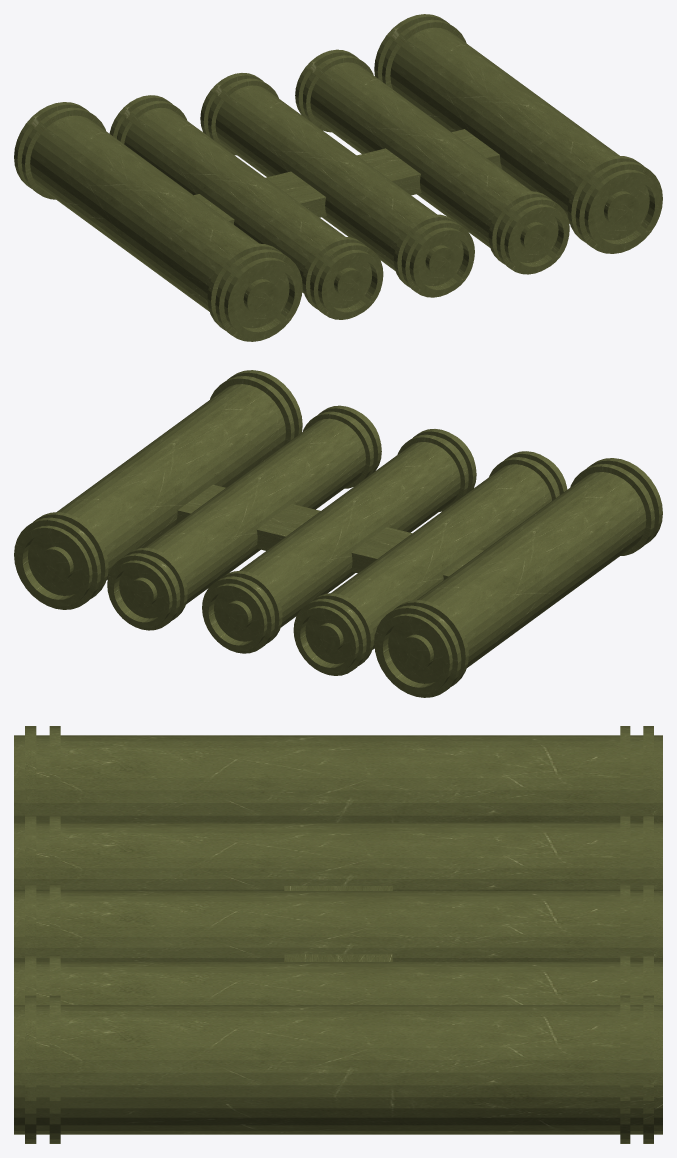
File: TreadMount.fbx
3 renders of one model, top to bottom at view 1: azimuth 30°, elevation 25°; view 2: azimuth 150°, elevation 25°; view 3: azimuth 270°, elevation 25°, orthographic. The views are drawn at different scales.
Visible parts, largest first — view 1: TreadMount; view 2: TreadMount; view 3: TreadMount.
Part boxes in pixels (x1=…): TreadMount: x1=14, y1=14, x2=662, y2=341; TreadMount: x1=14, y1=370, x2=662, y2=697; TreadMount: x1=14, y1=726, x2=662, y2=1143.
Size of the model in its own units: 1454 by 274 by 1200.
